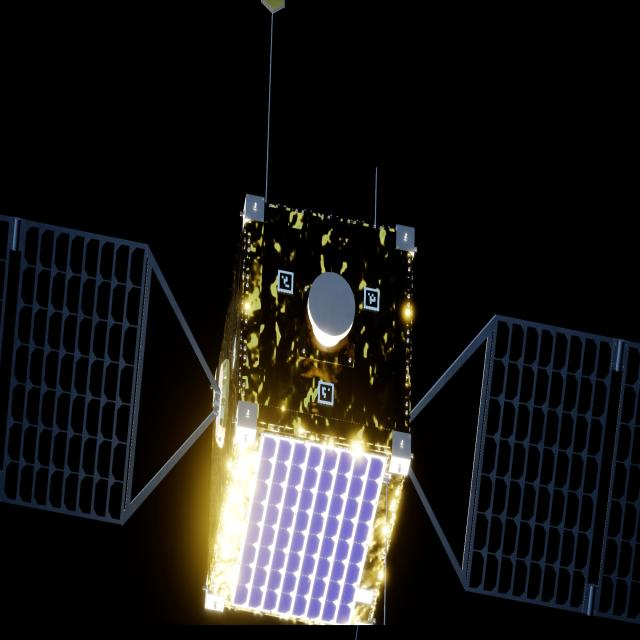medium_debris: (0, 195, 640, 627)
